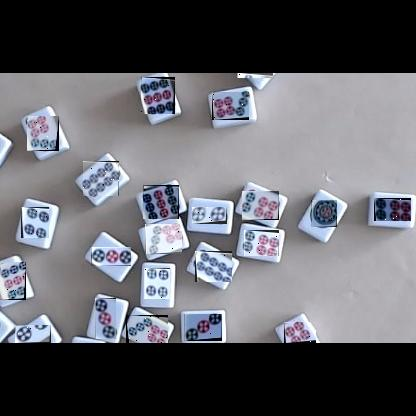1p: (311, 200, 337, 227)
2p: (15, 325, 51, 343), (192, 207, 227, 224)
3p: (184, 314, 222, 341), (95, 298, 116, 339), (91, 247, 131, 266)
4p: (21, 207, 49, 238), (144, 268, 170, 299)
6p: (242, 191, 279, 220), (244, 230, 279, 256), (374, 198, 411, 221), (284, 322, 316, 343)
7p: (126, 315, 168, 343), (27, 116, 59, 151), (145, 224, 182, 254), (212, 92, 249, 120)
8p: (83, 161, 119, 196), (195, 251, 232, 282), (237, 73, 273, 78)
9p: (141, 77, 175, 114), (143, 185, 179, 219), (0, 262, 26, 300)
